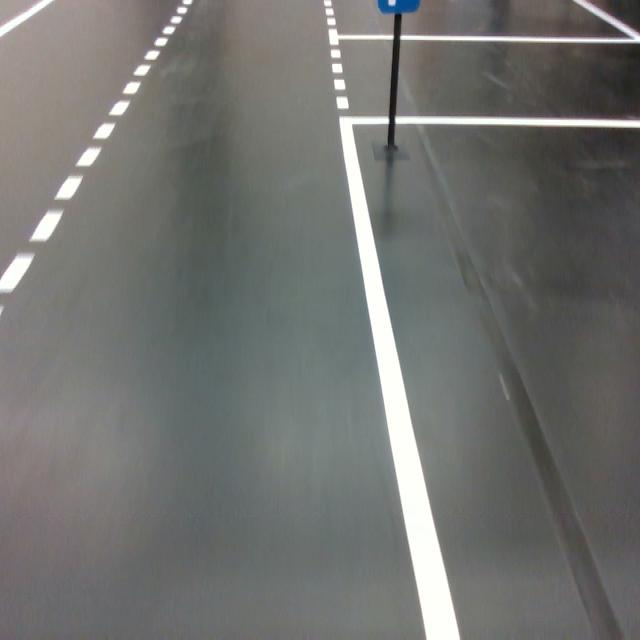parking-sign: (377, 0, 421, 14)
